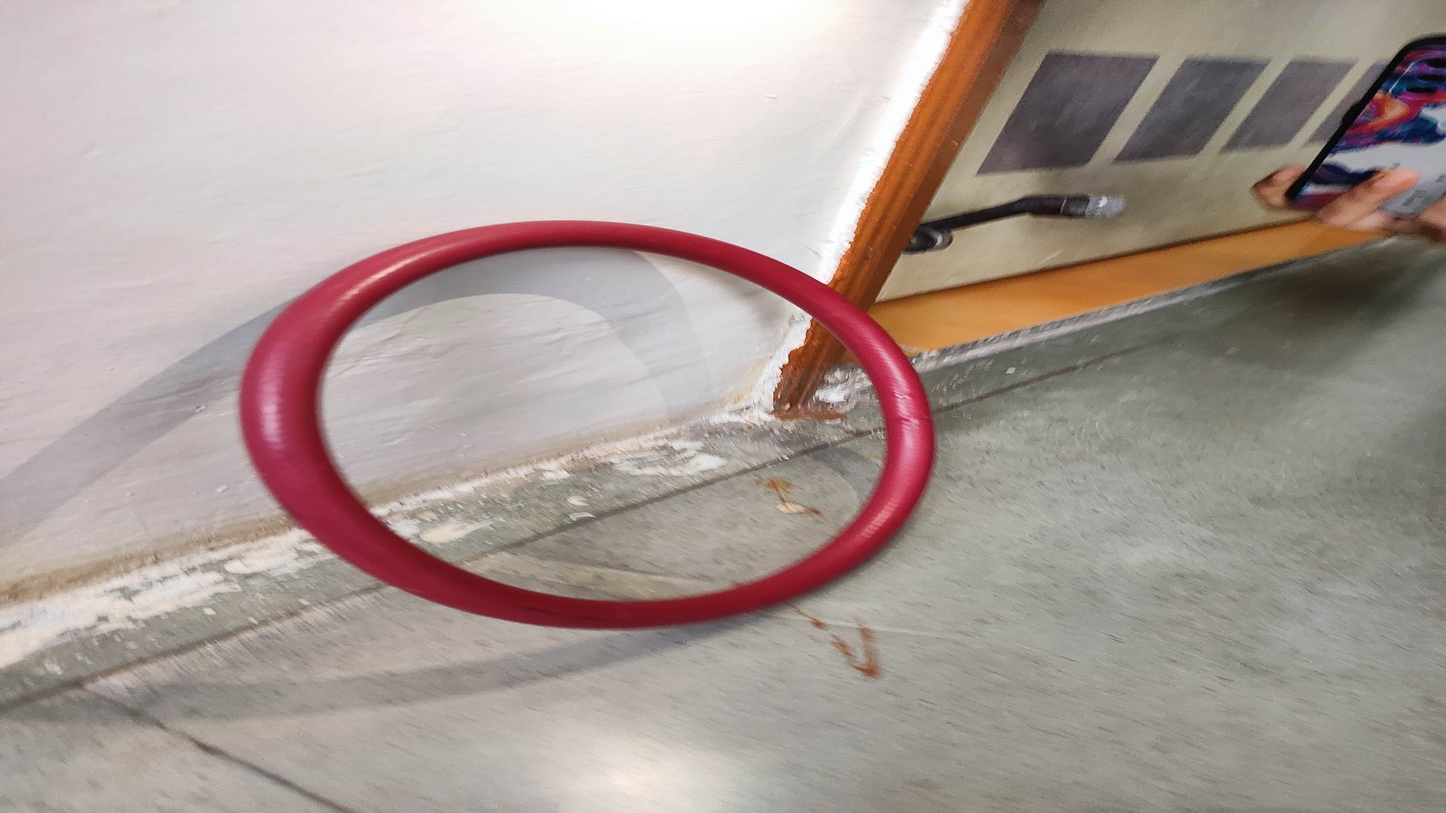Red ring: (247, 218, 934, 635)
